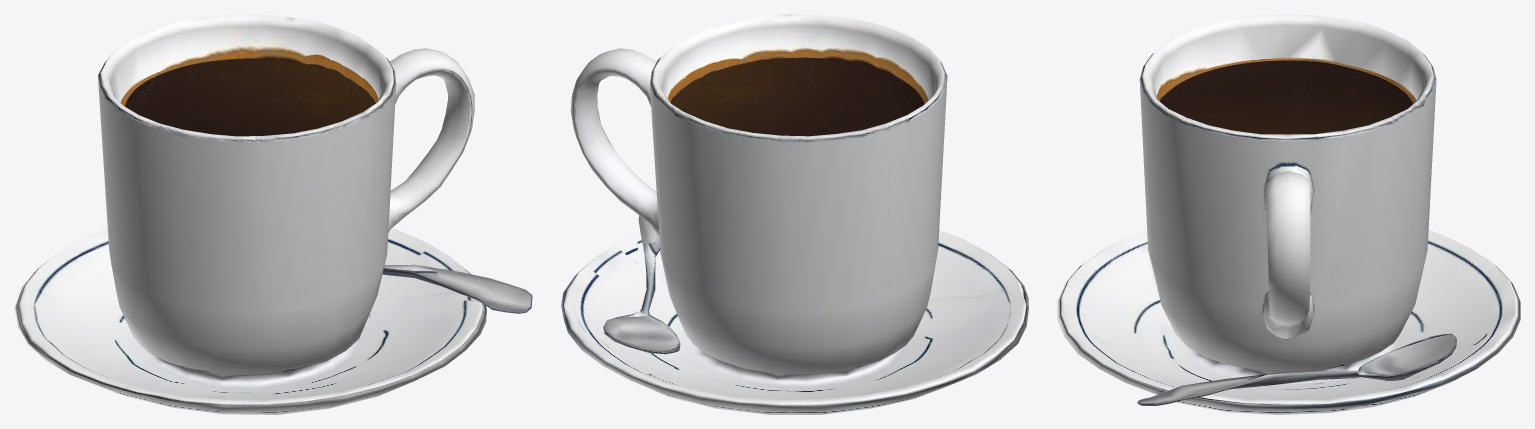
Rendered from cup-saucer.glb.
The picture shows the model from 3 angles, left to right: view 1: azimuth 30°, elevation 25°; view 2: azimuth 150°, elevation 25°; view 3: azimuth 270°, elevation 25°; orthographic projection.
Size of the model in its own units: 0.9575 by 0.6255 by 0.9082.
1 material, 1 textured.
